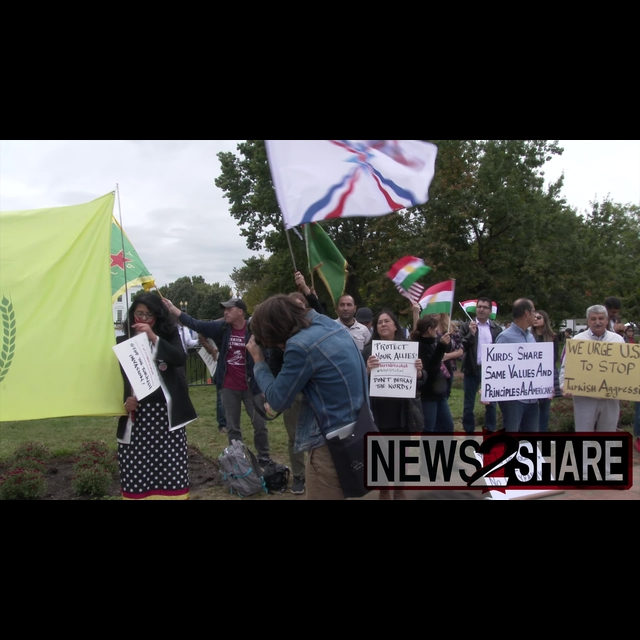IBKY: (387, 252, 426, 291), (423, 278, 455, 312)
